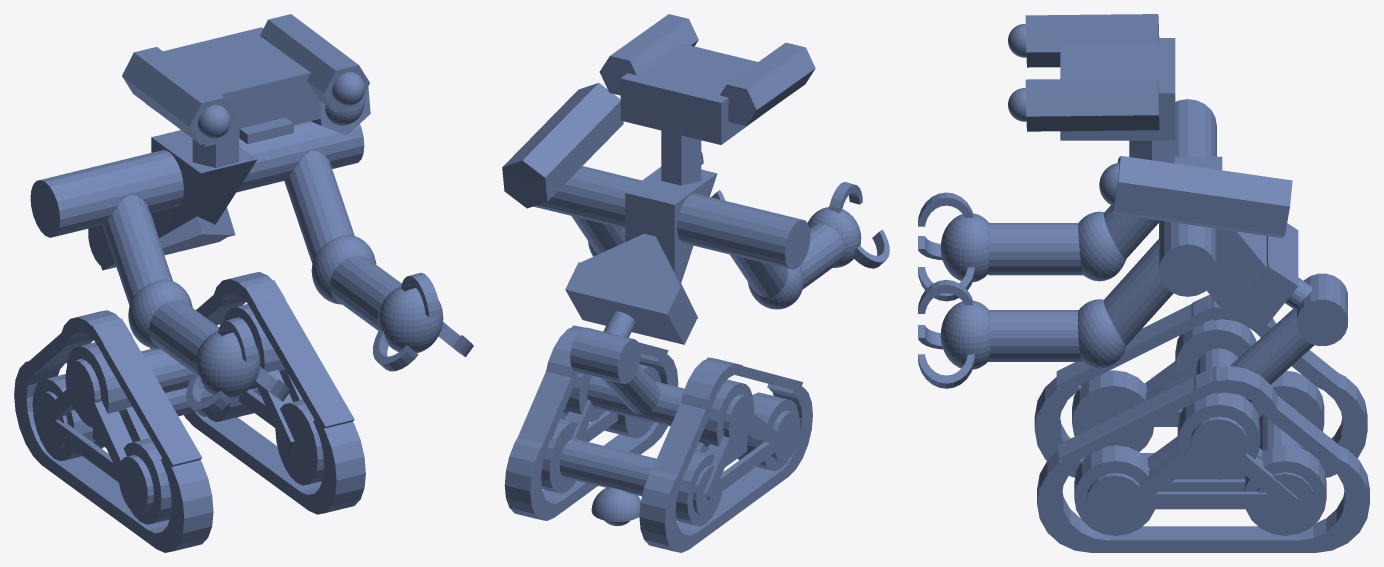
File: myBot.glb
3 renders of one model, left to right at view 1: azimuth 30°, elevation 25°; view 2: azimuth 150°, elevation 25°; view 3: azimuth 270°, elevation 25°, orthographic. The views are drawn at different scales.
Parts seen in each view (by area): view 1: Mesh_Mesh_head_geo.001_lambert2SG.001; view 2: Mesh_Mesh_head_geo.001_lambert2SG.001; view 3: Mesh_Mesh_head_geo.001_lambert2SG.001.
Boxes of the visible parts, x1,y1,x2,y2 form: Mesh_Mesh_head_geo.001_lambert2SG.001: (14,14,473,552); Mesh_Mesh_head_geo.001_lambert2SG.001: (502,14,889,552); Mesh_Mesh_head_geo.001_lambert2SG.001: (918,14,1369,552).
Size of the model in its own units: 83.07 by 122 by 109.
